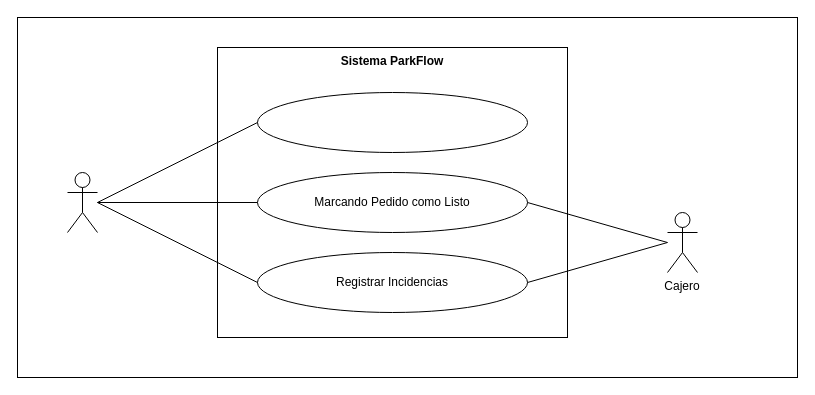
The diagram is 815 pixels wide and 395 high, and some of its shapes have lost their labels. The shapes that lost their labels are listed below. From the top down, each one's centre as x and y in pixels, then its label:
At (392,122): "Visualizando Pedidos en Cocina".
At (82,202): "Cocina".
